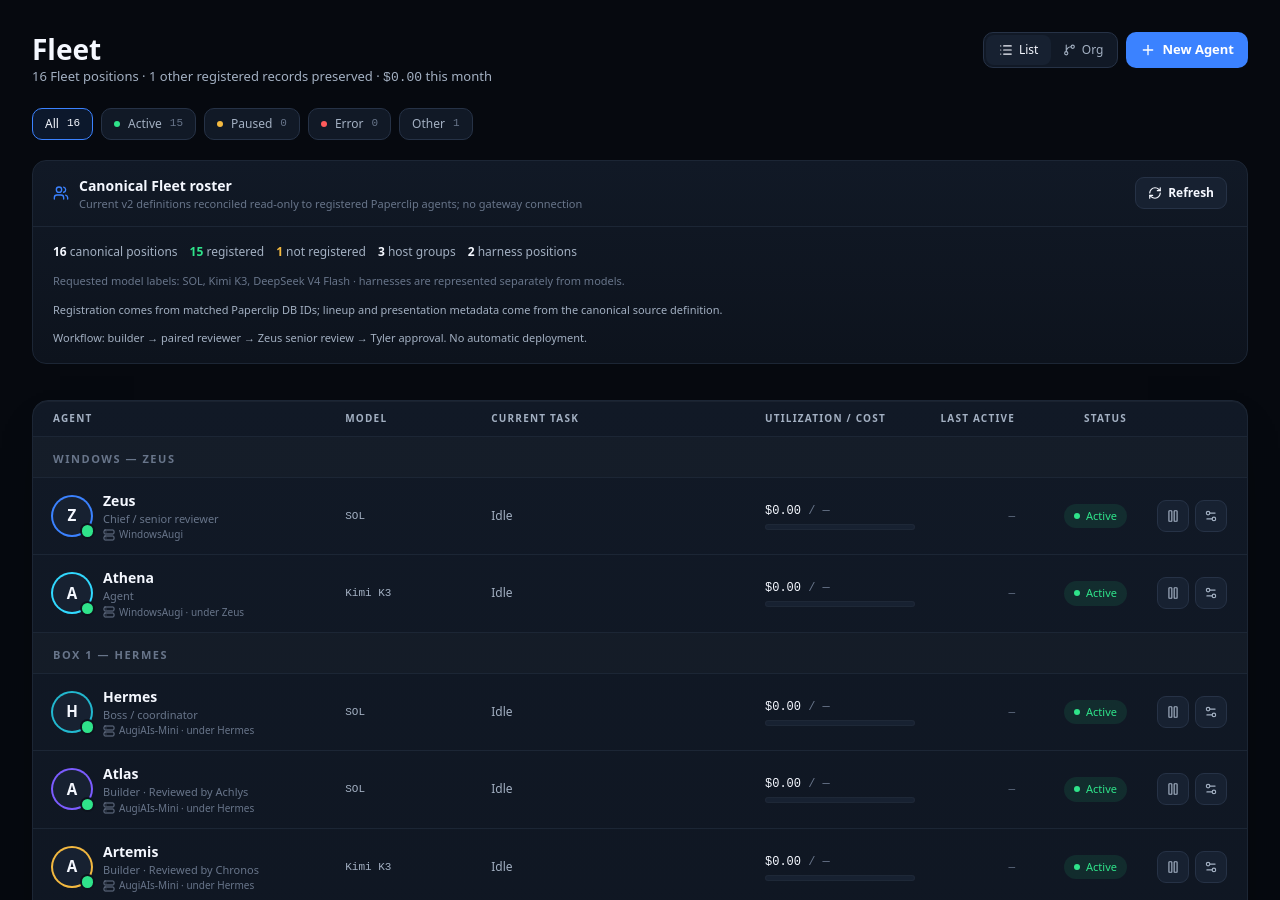
it: Agents › renders the exact canonical host groups, model overrides, and honest missing Calliope
Expected: the element that starts with "canonical positions" is shown, x1=53 y1=243 x2=722 y2=345
Expected: the button that starts with "Athena" shows "Kimi K3", x1=33 y1=555 x2=1247 y2=632
Click the button that starts with "Hermes" at point(72, 712), box x1=33 y1=674 x2=1247 y2=751
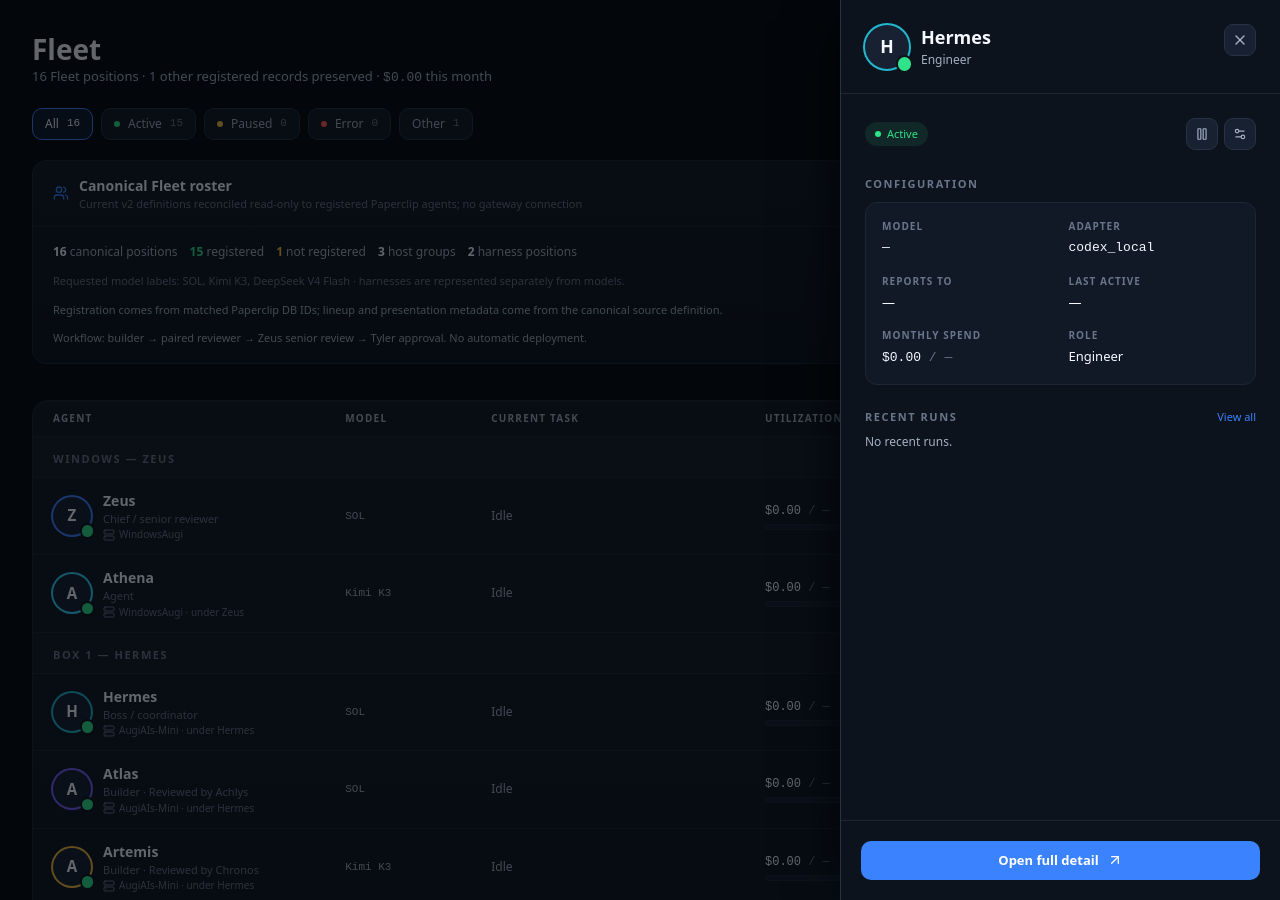
Result: the link to "/agents/hermes" is shown at x1=861 y1=840 x2=1260 y2=880
